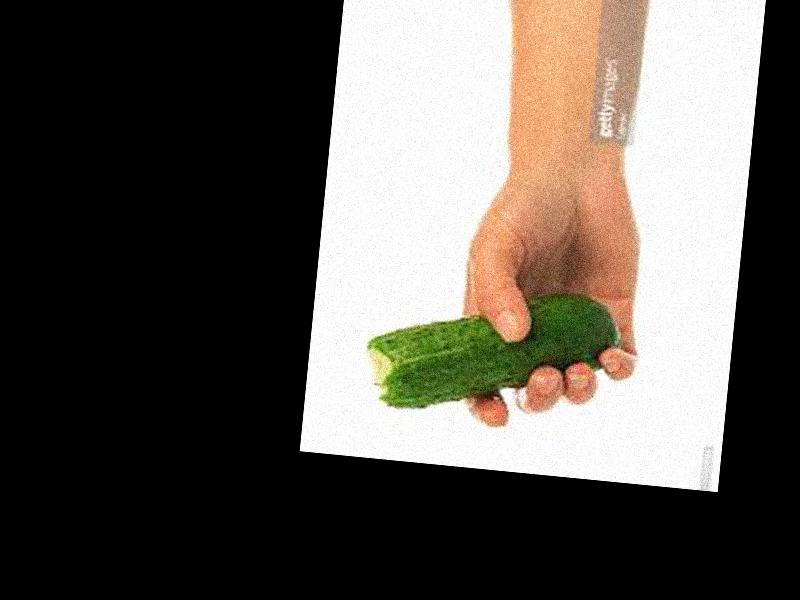Cucumber: (362, 276, 621, 427)
